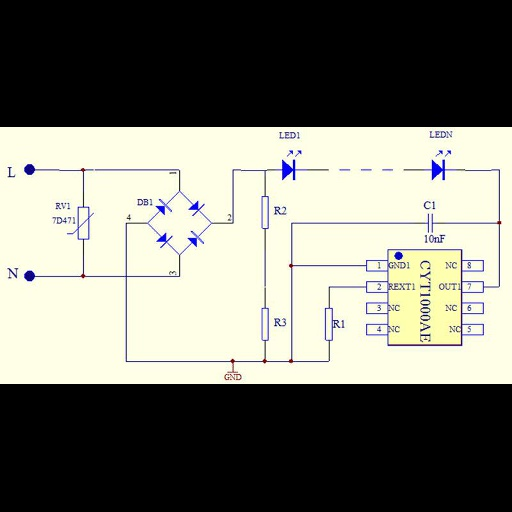capacitor: (422, 213, 439, 234)
firstled: (274, 146, 307, 186), (426, 147, 455, 182)
firstresistance: (255, 303, 272, 344), (257, 191, 272, 236), (320, 303, 334, 347)
rectifierbridge: (146, 191, 213, 256)
